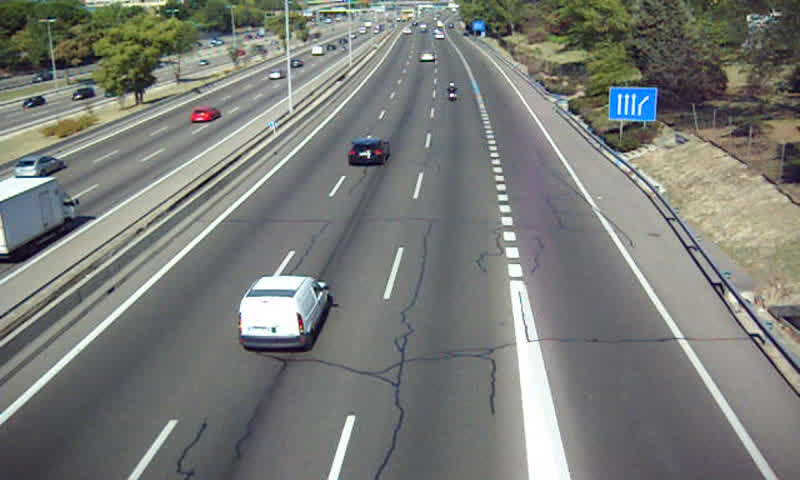car: (350, 140, 389, 165), (419, 53, 435, 64)
motorcycle: (444, 83, 460, 104)
van: (236, 276, 332, 353)
